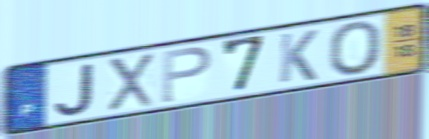7: (220, 33, 266, 96)
J: (52, 60, 97, 118)
K: (277, 28, 320, 86)
O: (327, 18, 384, 78)
P: (159, 44, 213, 106)
X: (105, 51, 155, 114)
